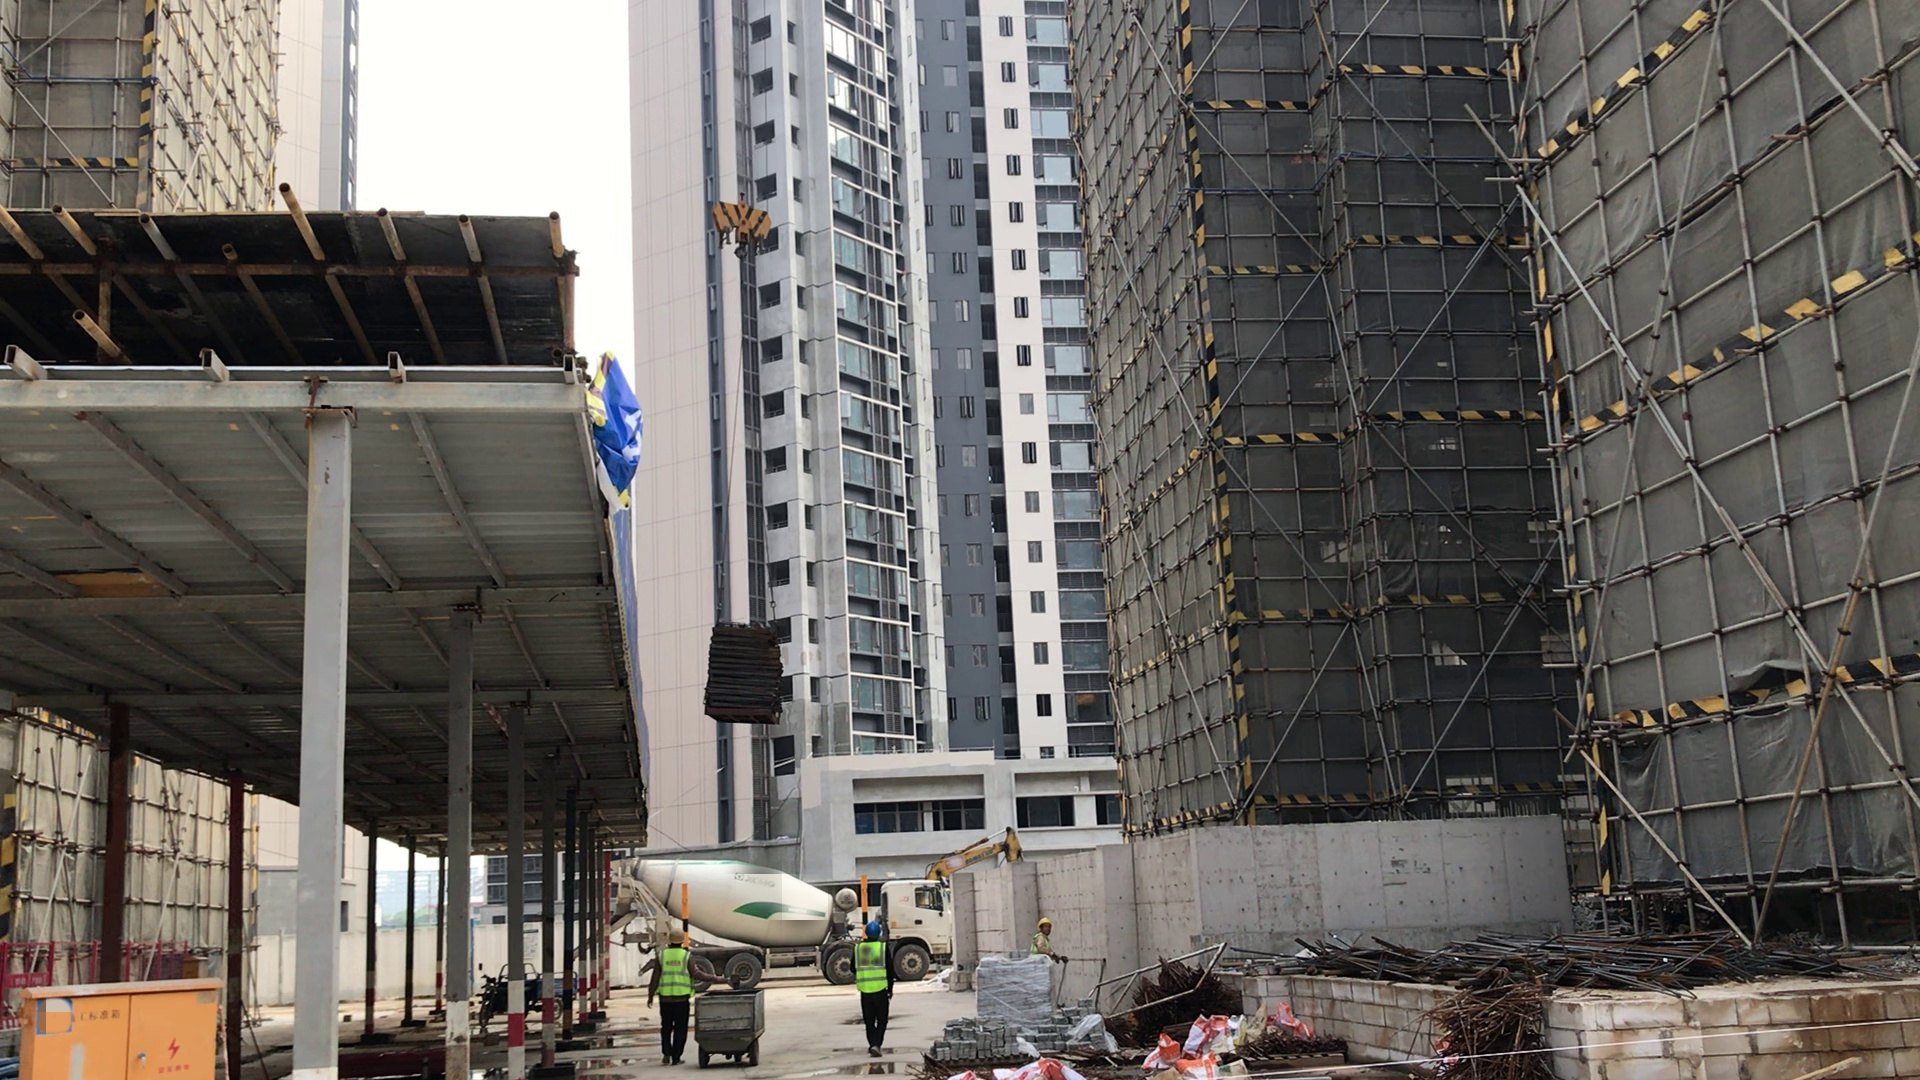brick: (921, 1016, 1128, 1060)
helmet: (666, 924, 690, 944), (860, 919, 885, 938), (1035, 913, 1048, 930)
hook: (699, 193, 778, 260)
person: (647, 922, 698, 1068), (853, 922, 894, 1062), (1023, 915, 1072, 966)
vest: (853, 938, 897, 996), (656, 944, 692, 1000), (1027, 933, 1061, 959)
